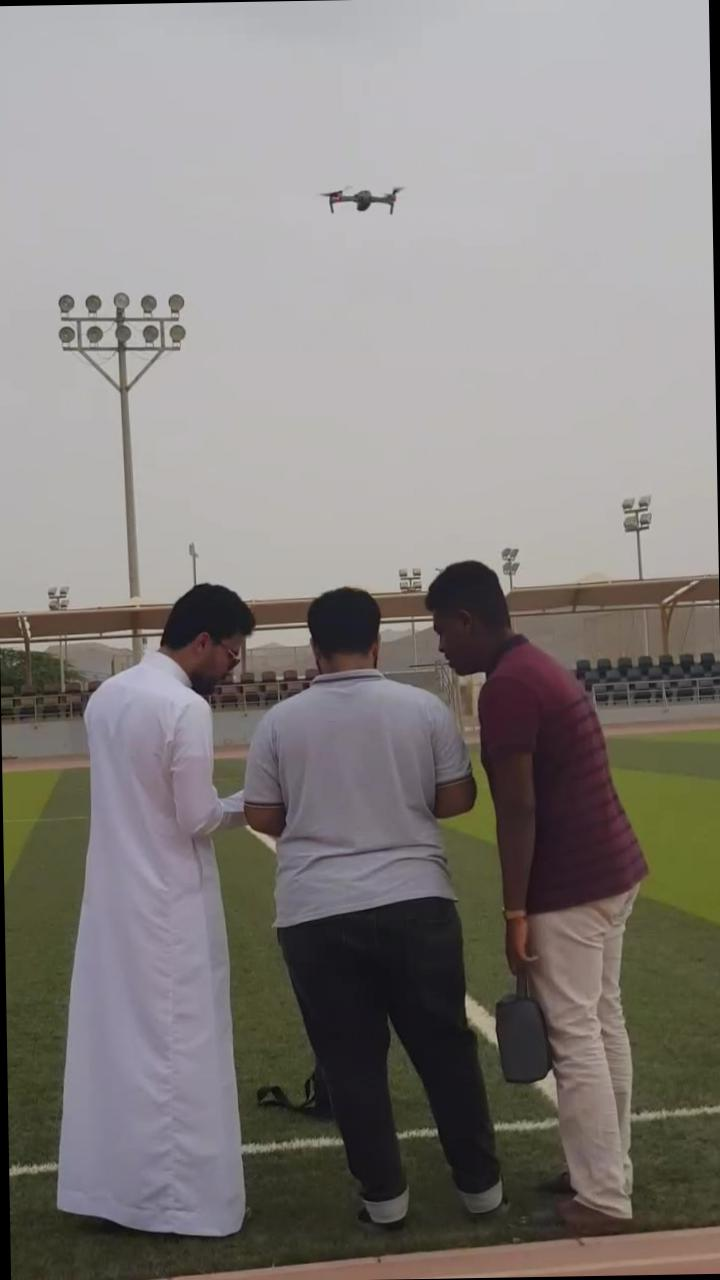drone: (316, 182, 404, 223)
